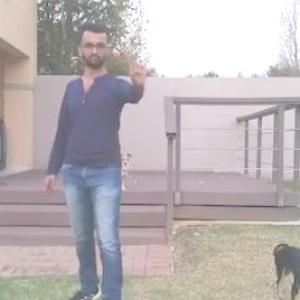takeoff-hand: (126, 48, 156, 85)
